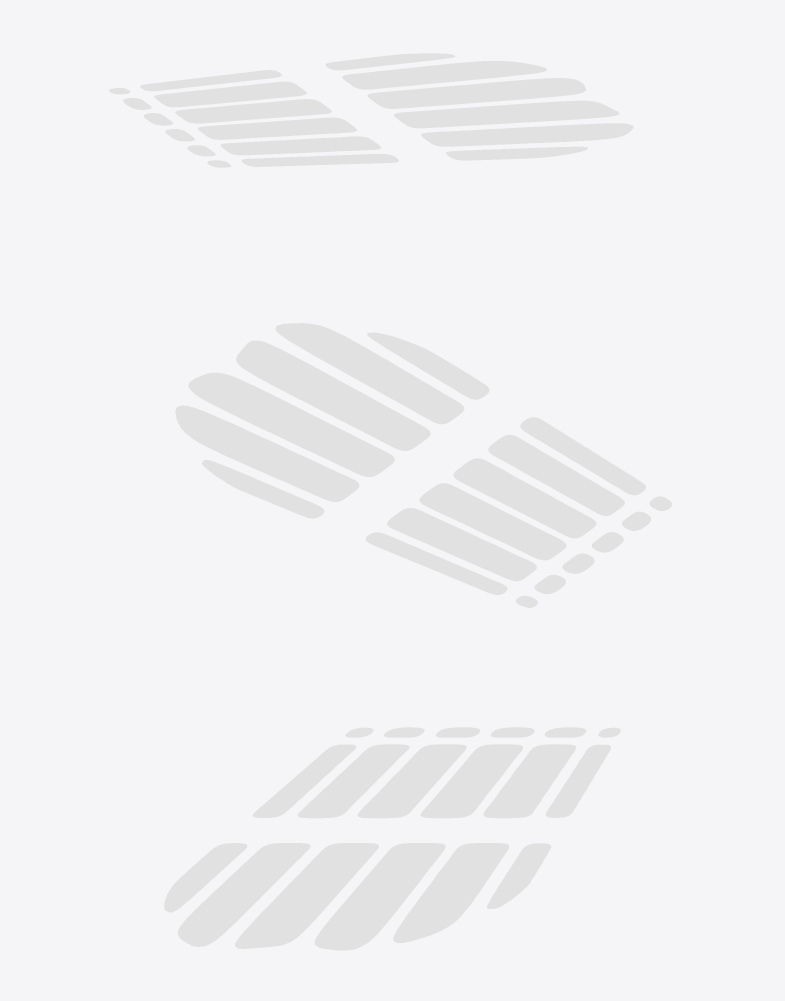
Rendered from scene_chuanhu.FBX.
3 renders of one model, top to bottom at view 1: azimuth 30°, elevation 25°; view 2: azimuth 150°, elevation 25°; view 3: azimuth 270°, elevation 25°, orthographic. The views are drawn at different scales.
Parts seen in each view (by area): view 1: scene_chuanhu; view 2: scene_chuanhu; view 3: scene_chuanhu.
Part boxes in pixels (bbox=[...]): scene_chuanhu: bbox=[109, 53, 633, 167]; scene_chuanhu: bbox=[175, 323, 671, 607]; scene_chuanhu: bbox=[164, 727, 620, 950].
Size of the model in its own units: 3.05 by 1.53e-07 by 3.5.
1 material, 1 textured.
